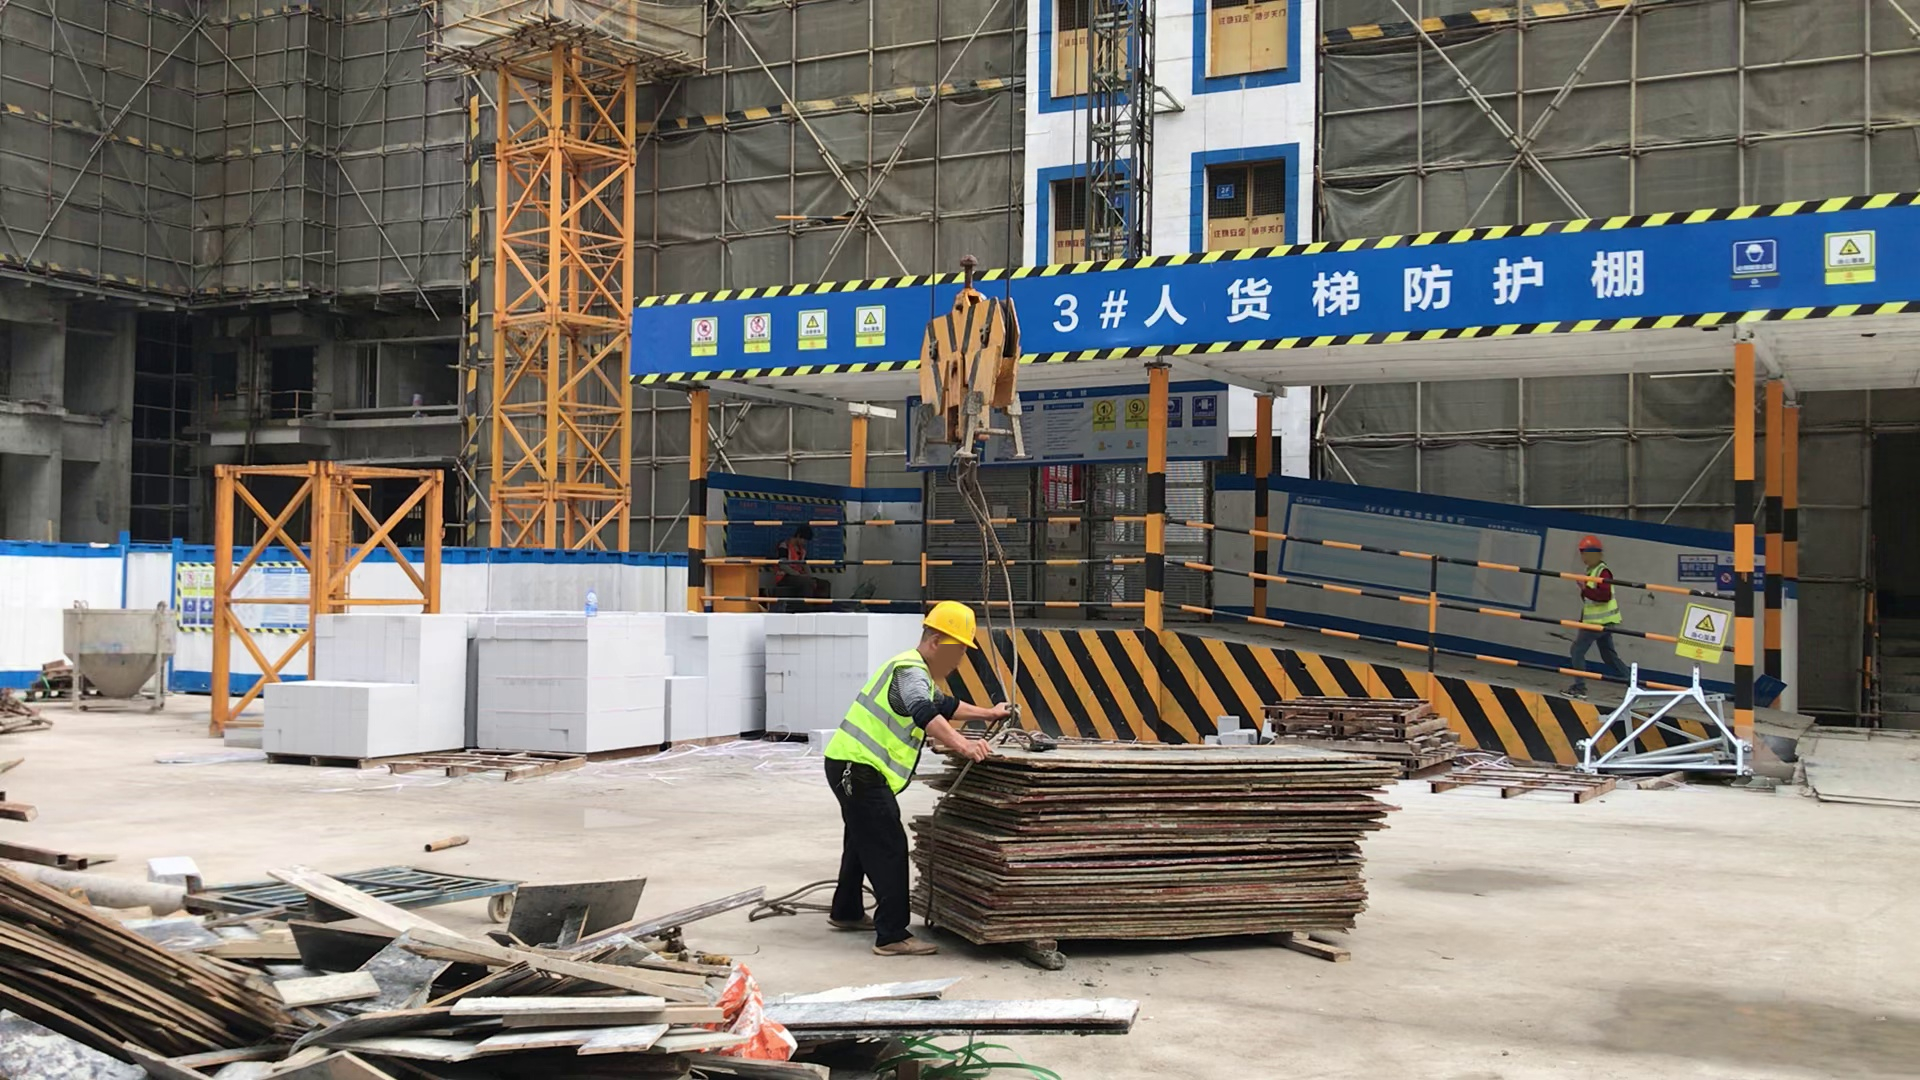board: (913, 746, 1406, 947)
brick: (266, 613, 920, 754)
helmet: (921, 603, 980, 650), (1577, 536, 1604, 550)
hook: (922, 288, 1017, 489)
person: (823, 601, 1022, 954), (1560, 530, 1640, 702)
slogan: (173, 562, 325, 629), (1734, 230, 1881, 292), (689, 308, 884, 352), (1088, 396, 1220, 453), (1672, 550, 1764, 595), (1677, 598, 1727, 669)
vest: (827, 650, 935, 800), (1581, 566, 1622, 625)
